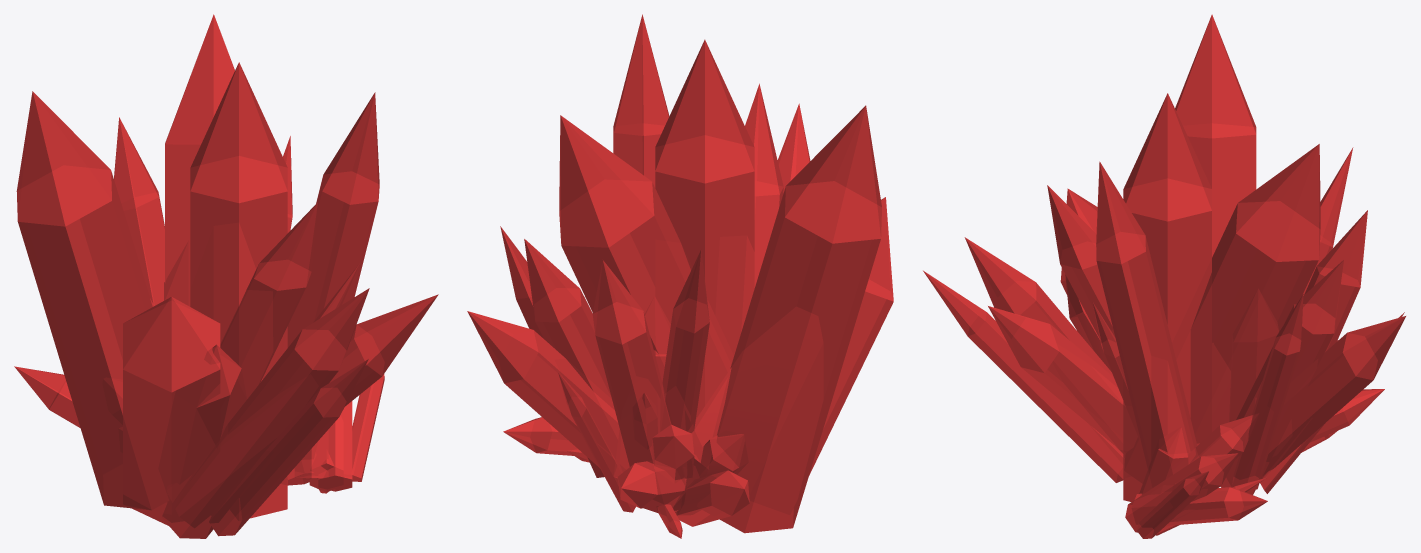
The model's file is redcrystal.fbx.
3 renders of one model, left to right at view 1: azimuth 30°, elevation 25°; view 2: azimuth 150°, elevation 25°; view 3: azimuth 270°, elevation 25°, orthographic. The views are drawn at different scales.
Parts seen in each view (by area): view 1: crystal_formation, ID84, ID54, ID42, ID90, ID18, ID78, ID114, ID144, ID36, ID276, ID12 (+15 smaller); view 2: crystal_formation, ID54, ID42, ID144, ID138, ID84, ID12, ID30, ID36, ID60, ID18, ID216 (+21 smaller); view 3: crystal_formation, ID42, ID18, ID84, ID144, ID90, ID138, ID78, ID150, ID276, ID162, ID282 (+20 smaller).
Boxes of the visible parts, x1,y1,x2,y2 form: crystal_formation: [17, 62, 287, 520]; ID84: [161, 202, 369, 538]; ID54: [123, 296, 220, 525]; ID42: [165, 14, 255, 494]; ID90: [167, 294, 438, 527]; ID18: [279, 92, 379, 459]; ID78: [209, 359, 368, 536]; ID114: [159, 344, 246, 501]; ID144: [114, 117, 164, 305]; ID36: [165, 18, 212, 143]; ID276: [287, 401, 352, 491]; ID12: [190, 63, 238, 190]; crystal_formation: [655, 40, 881, 533]; ID54: [688, 197, 893, 514]; ID42: [559, 115, 733, 475]; ID144: [525, 239, 686, 515]; ID138: [467, 311, 628, 482]; ID84: [716, 83, 810, 353]; ID12: [655, 39, 754, 183]; ID30: [785, 106, 880, 243]; ID36: [560, 115, 653, 247]; ID60: [660, 250, 709, 462]; ID18: [613, 16, 669, 187]; ID216: [652, 424, 749, 526]; crystal_formation: [1123, 14, 1256, 501]; ID42: [1125, 144, 1319, 482]; ID18: [1096, 161, 1198, 486]; ID84: [965, 185, 1126, 463]; ID144: [1220, 210, 1367, 494]; ID90: [988, 306, 1137, 451]; ID138: [1226, 316, 1405, 485]; ID78: [923, 271, 1127, 482]; ID150: [1232, 294, 1303, 492]; ID276: [1125, 414, 1258, 532]; ID162: [1229, 289, 1291, 455]; ID282: [1132, 487, 1267, 525].
Bounding box in the file's own units: 72.62 × 91.92 × 86.56.
